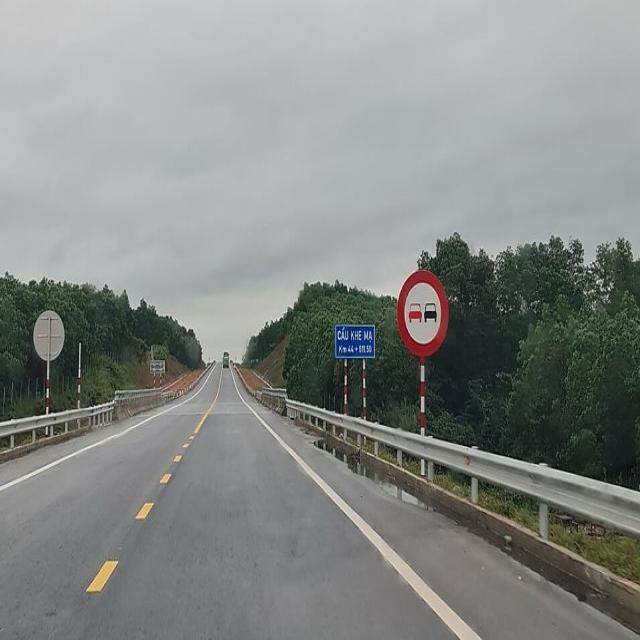Bien bao cam vuot: (392, 261, 455, 360)
